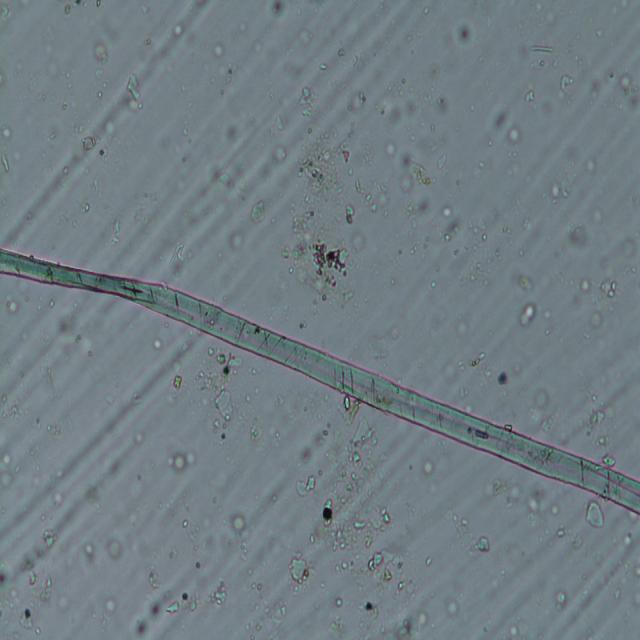Anthropogenic: (1, 245, 640, 515)
Background material: (284, 128, 356, 305), (321, 416, 379, 562), (187, 156, 273, 226), (375, 130, 443, 213), (364, 578, 430, 640), (462, 348, 522, 394), (243, 585, 291, 637), (455, 226, 494, 289), (48, 300, 88, 356), (23, 464, 69, 511), (349, 172, 401, 213), (588, 393, 616, 469), (10, 554, 52, 603), (366, 88, 416, 128), (78, 456, 114, 506), (530, 388, 565, 439), (200, 349, 238, 392), (518, 483, 560, 520), (486, 110, 530, 144), (480, 476, 522, 510), (519, 40, 559, 74), (68, 132, 110, 164), (457, 519, 491, 558), (134, 596, 160, 640), (216, 115, 248, 149), (510, 268, 544, 296), (439, 206, 461, 244), (542, 180, 572, 207), (212, 390, 235, 425), (525, 3, 557, 28), (164, 244, 192, 272), (296, 87, 318, 121), (94, 34, 117, 66), (585, 501, 608, 531), (207, 43, 231, 71), (0, 447, 16, 489), (584, 308, 612, 332), (366, 549, 392, 574), (170, 448, 198, 471), (288, 554, 310, 583), (519, 300, 539, 331), (142, 564, 164, 592), (434, 89, 456, 116), (614, 66, 634, 95), (124, 76, 144, 105), (353, 83, 369, 118), (0, 556, 16, 591), (294, 473, 318, 496), (576, 151, 600, 174), (77, 540, 98, 566), (250, 200, 268, 230), (103, 529, 122, 557), (265, 116, 289, 138), (374, 503, 396, 526), (615, 532, 640, 552), (163, 372, 181, 399), (0, 296, 24, 316), (230, 227, 246, 256), (550, 587, 568, 612), (271, 0, 292, 21), (231, 517, 250, 539), (444, 595, 460, 621), (162, 597, 182, 617), (428, 58, 444, 83), (453, 26, 471, 48), (601, 277, 619, 299), (622, 558, 640, 580), (587, 78, 601, 106), (418, 458, 441, 475), (572, 224, 588, 248), (18, 607, 34, 631), (212, 581, 228, 605), (506, 621, 526, 640), (333, 558, 352, 578), (560, 147, 580, 166), (40, 530, 58, 551), (97, 117, 119, 134), (434, 149, 450, 172), (246, 423, 262, 446), (56, 588, 74, 608), (329, 618, 345, 639), (263, 150, 288, 163), (565, 536, 585, 552), (575, 279, 595, 295), (589, 201, 603, 223), (503, 159, 522, 175), (63, 0, 85, 13), (558, 73, 573, 92), (518, 215, 534, 232), (107, 597, 119, 617), (130, 432, 144, 448), (335, 44, 351, 58), (154, 337, 166, 355), (114, 220, 123, 244), (0, 158, 12, 174), (0, 123, 12, 138), (628, 510, 638, 527), (83, 201, 93, 218), (243, 390, 253, 407), (333, 594, 347, 606), (525, 90, 535, 105), (171, 23, 183, 35), (423, 554, 433, 568), (554, 530, 566, 540), (138, 39, 154, 45), (593, 32, 601, 44), (614, 589, 622, 598)
